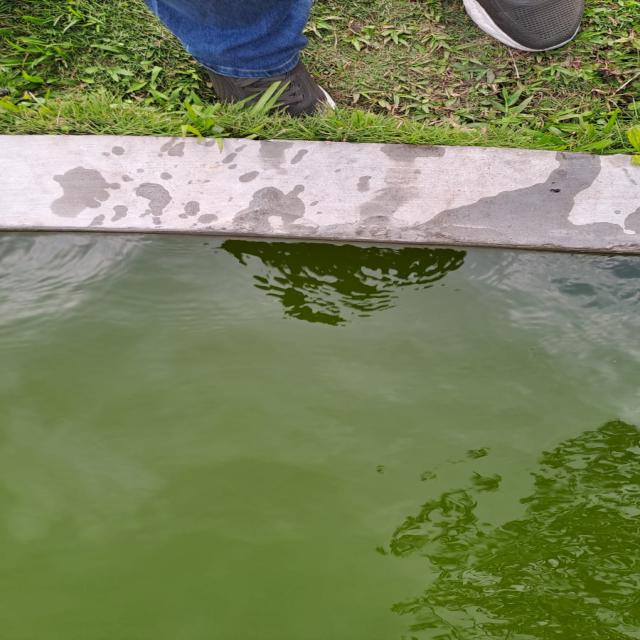Ponds: (1, 133, 640, 640)
